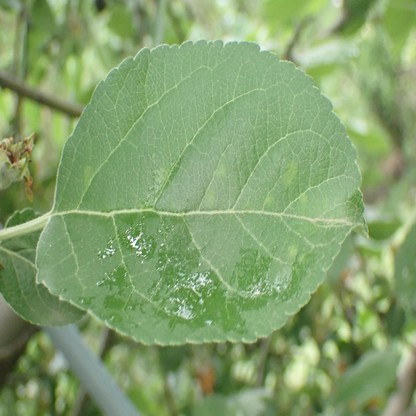scab: (283, 161, 298, 186), (203, 188, 214, 210), (83, 165, 95, 185), (215, 161, 225, 181), (159, 168, 168, 185), (239, 202, 250, 213), (265, 194, 273, 207), (288, 246, 296, 256), (299, 192, 306, 201)
